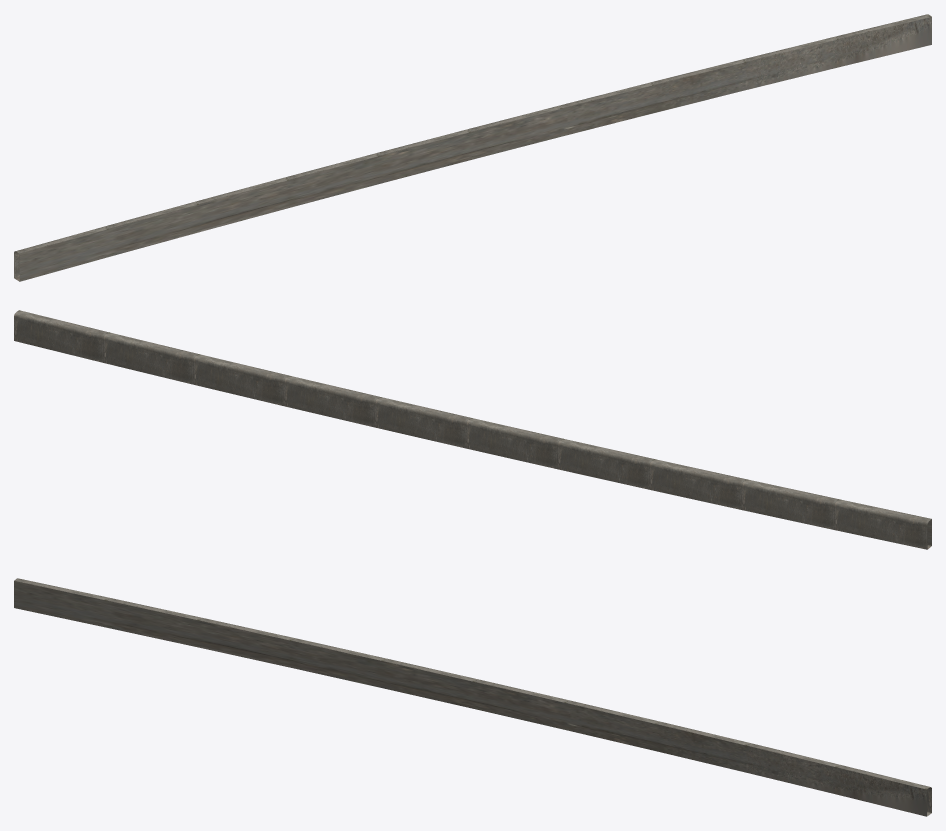
File: SM_Curb_16.glb
3 renders of one model, top to bottom at view 1: azimuth 30°, elevation 25°; view 2: azimuth 150°, elevation 25°; view 3: azimuth 330°, elevation 25°, orthographic. The views are drawn at different scales.
Visible parts, largest first — view 1: SM_Curb_16; view 2: SM_Curb_16; view 3: SM_Curb_16.
Part boxes in pixels (box(x1,y1,x2,y2)): SM_Curb_16: box(14, 14, 931, 281); SM_Curb_16: box(14, 310, 931, 549); SM_Curb_16: box(14, 578, 931, 816).
Bounding box in the file's own units: 2601 × 75.03 × 97.83.
1 material, 1 textured.
